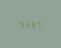eight: (30, 20, 35, 28)
five: (18, 19, 23, 27), (24, 19, 29, 27)
seven: (36, 20, 41, 28)
